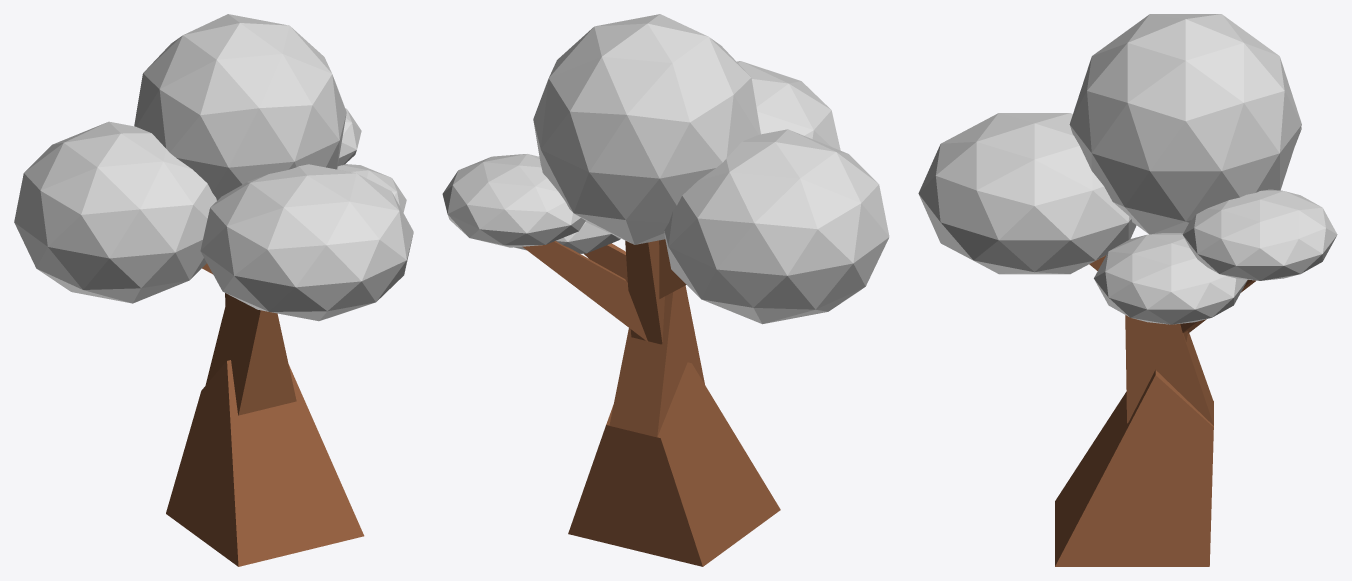
File: tree.fbx
3 renders of one model, left to right at view 1: azimuth 30°, elevation 25°; view 2: azimuth 150°, elevation 25°; view 3: azimuth 270°, elevation 25°, orthographic. The views are drawn at different scales.
Visible parts, largest first — view 1: Icosphere, Icosphere.003, Icosphere.001, Cube, Cube.001, Icosphere.002, Icosphere.004; view 2: Icosphere, Icosphere.003, Cube, Icosphere.004, Cube.001, Icosphere.001, Cube.005, Cube.002, Icosphere.002, Cube.006, Cube.003; view 3: Icosphere, Icosphere.001, Cube, Icosphere.004, Icosphere.002, Cube.001.
Boxes of the visible parts, box(x1,y1,x2,y2) form: Icosphere: box(134, 14, 346, 200); Icosphere.003: box(14, 121, 216, 303); Icosphere.001: box(200, 164, 413, 321); Cube: box(166, 360, 364, 566); Cube.001: box(205, 294, 296, 415); Icosphere.002: box(337, 164, 406, 212); Icosphere.004: box(338, 108, 361, 166); Icosphere: box(533, 14, 760, 244); Icosphere.003: box(664, 129, 889, 324); Cube: box(568, 362, 780, 566); Icosphere.004: box(442, 154, 585, 247); Cube.001: box(609, 285, 704, 437); Icosphere.001: box(737, 61, 840, 150); Cube.005: box(522, 241, 647, 341); Cube.002: box(625, 240, 664, 344); Icosphere.002: box(514, 222, 620, 253); Cube.006: box(584, 243, 627, 282); Cube.003: box(659, 239, 686, 298); Icosphere: box(1069, 14, 1301, 234); Icosphere.001: box(918, 113, 1136, 274); Cube: box(1055, 370, 1213, 566); Icosphere.004: box(1182, 189, 1337, 280); Icosphere.002: box(1094, 233, 1247, 324); Cube.001: box(1125, 315, 1213, 425).
Bounding box in the file's own units: 568 × 734 × 541.
